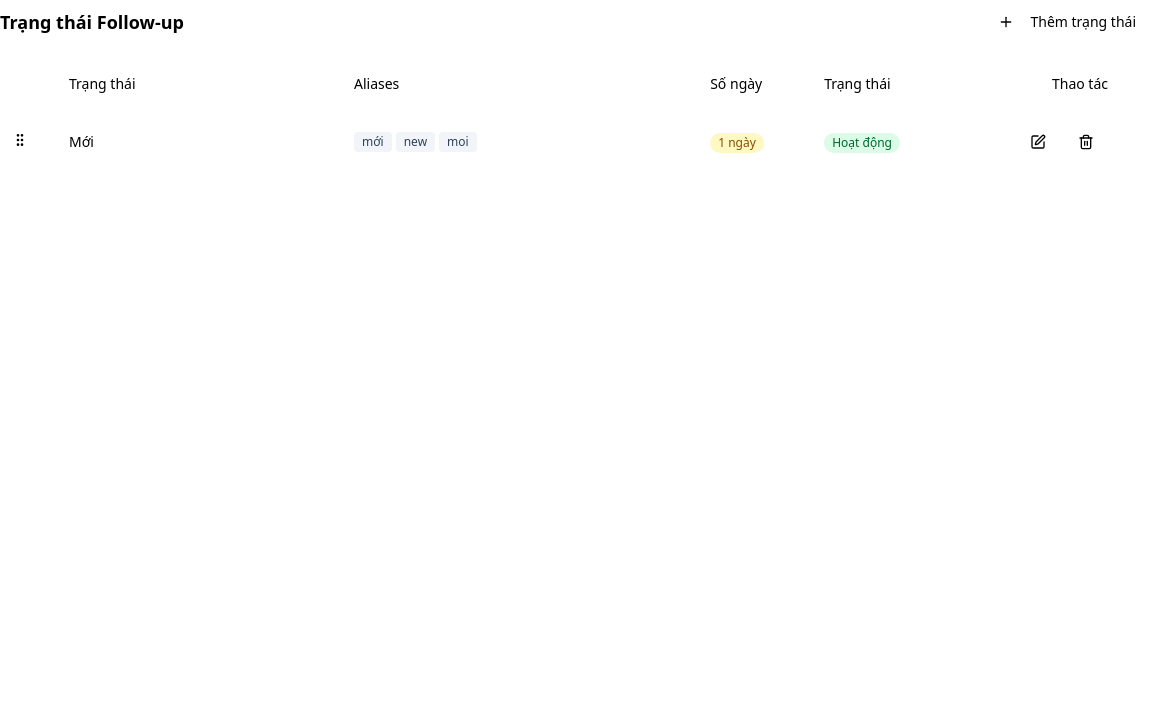
FollowUpStatusTable › CRUD Operations › shows delete dialog on delete click
This screenshot has width=1152, height=720.
Check: the text "Mới" is shown, box [57, 108, 342, 176]
Click the button titled "Xóa" at point(1086, 142), box [1064, 120, 1108, 164]
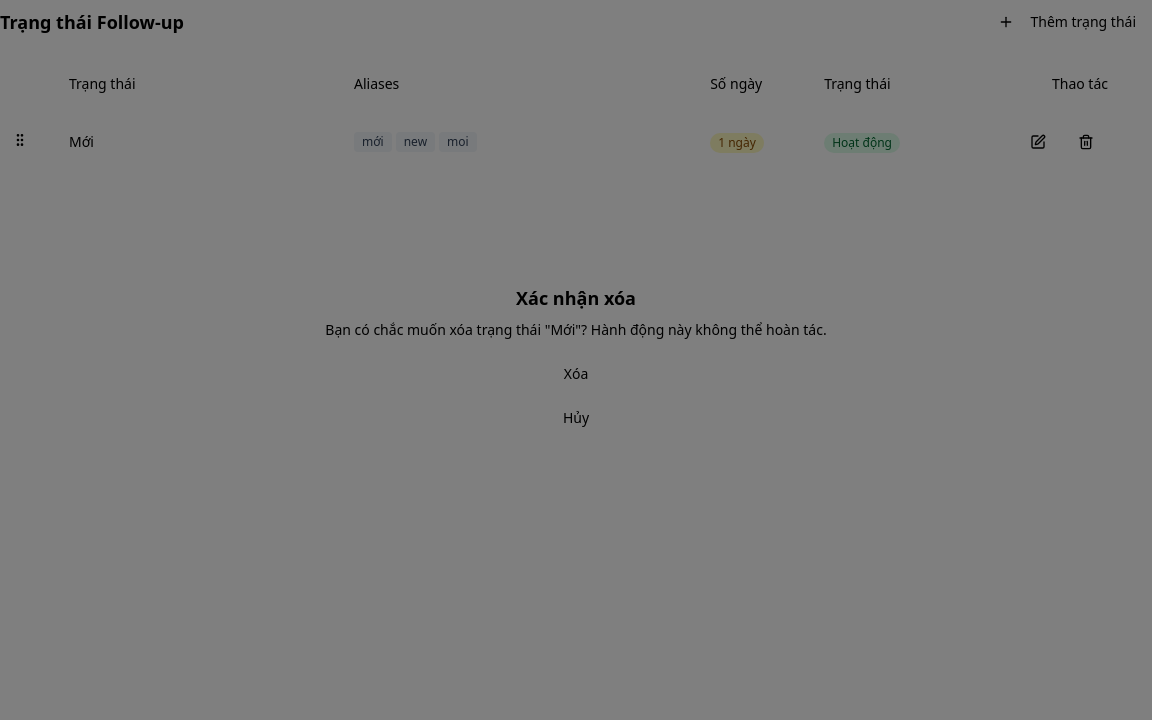
Check: the heading "Xác nhận xóa" is shown, box [516, 286, 636, 310]
Check: the text "Bạn có chắc muốn xóa trạng thái" is shown, box [325, 320, 550, 339]
